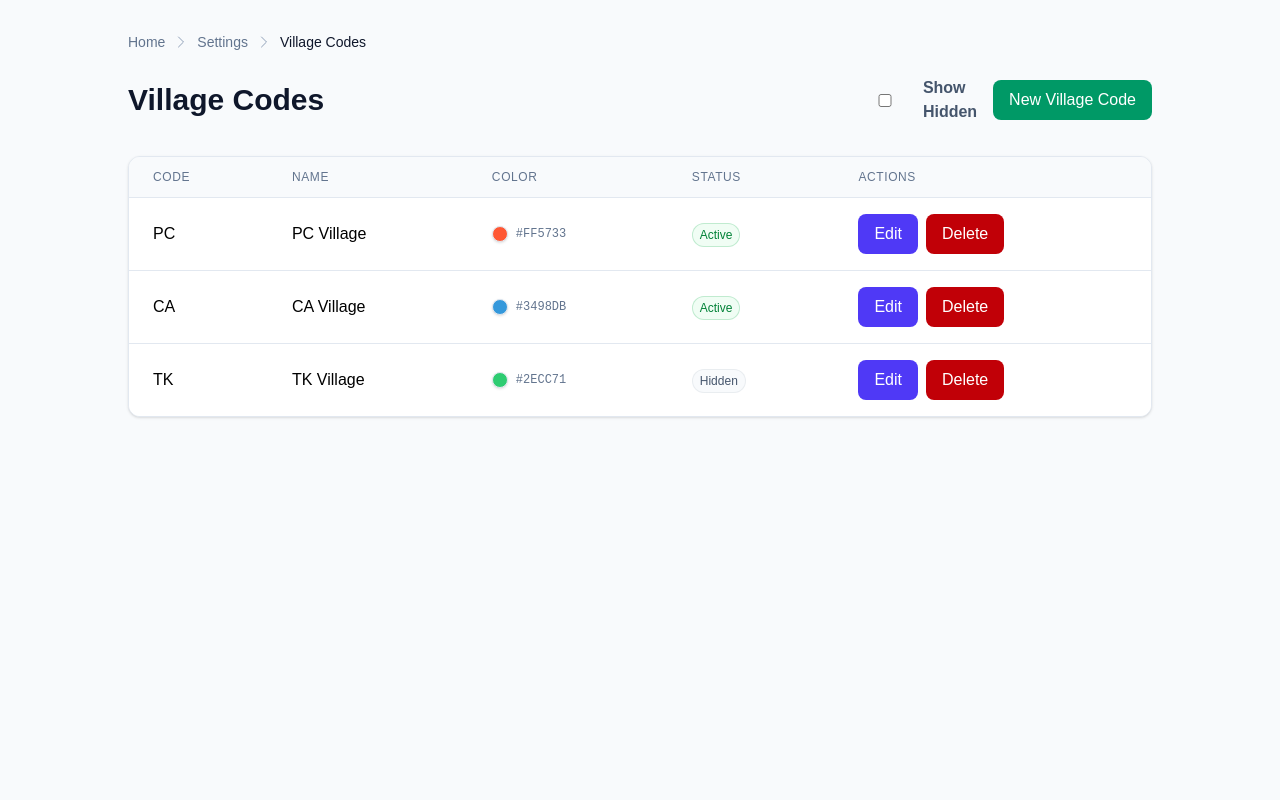
Test case: VillageCodesPage › opens new village code form when button is clicked
The width and height of the screenshot is (1280, 800).
Click the button "New Village Code". click: (1073, 100)
box: [993,80,1152,120]
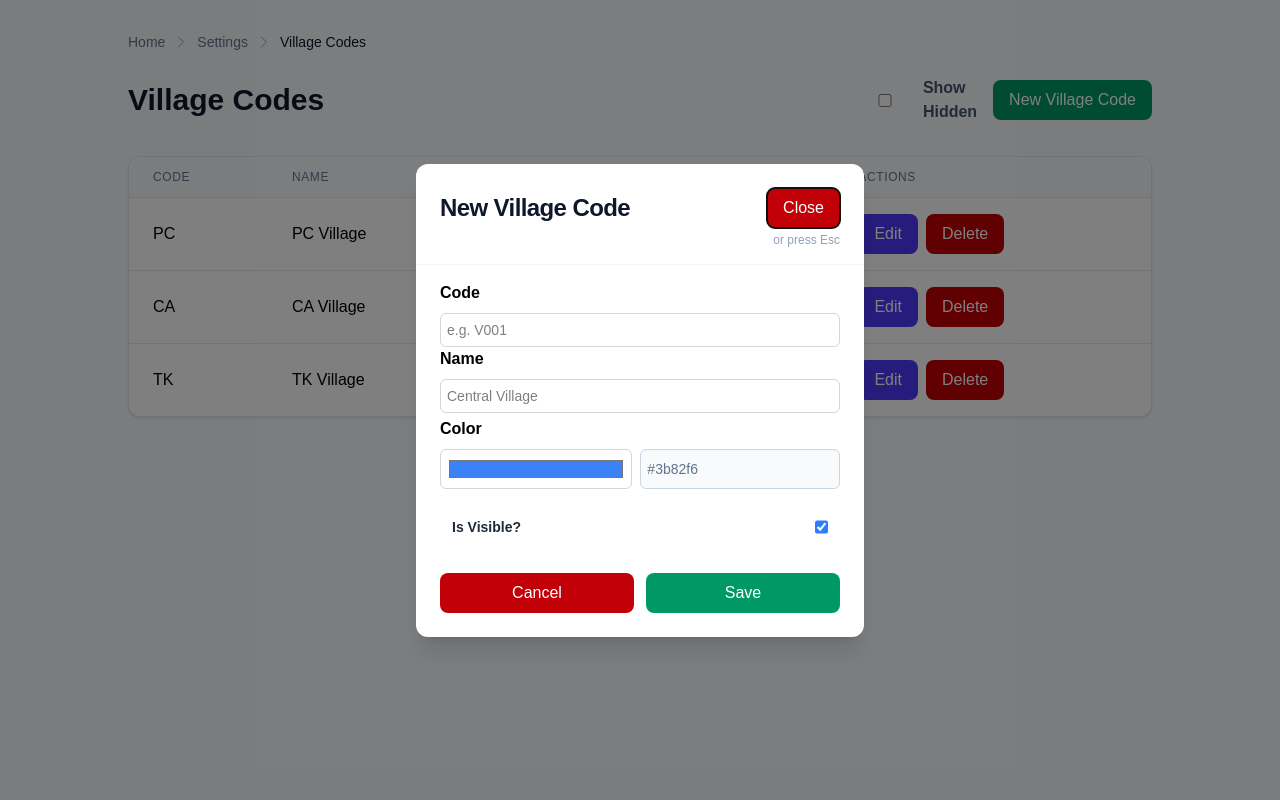
Expected: the heading "New Village Code" is shown, [440,188,630,228]
Expected: the field with placeholder "e.g. V001" is shown, [440,312,840,346]
Expected: the field with placeholder "Central Village" is shown, [440,378,840,412]
